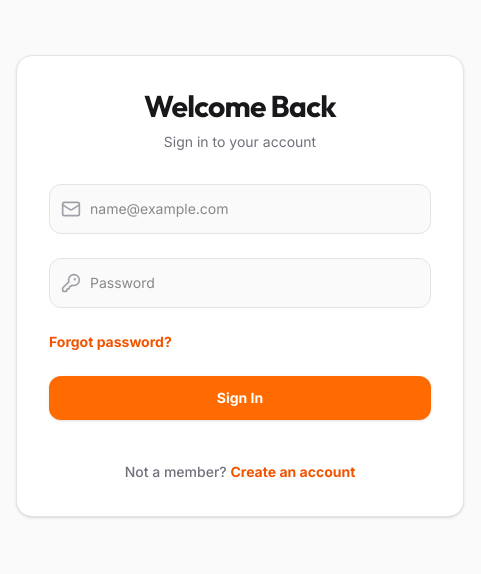
LoginView Component › displays error if login fails
Type "test@example.com" into the field with placeholder "name@example.com" at (240, 209), box [49,184,431,234]
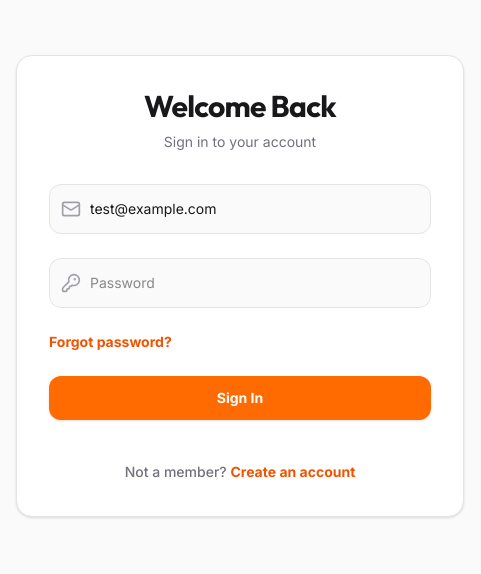
Type "password123" into the password field with placeholder "Password" at (240, 283), box [49,258,431,308]
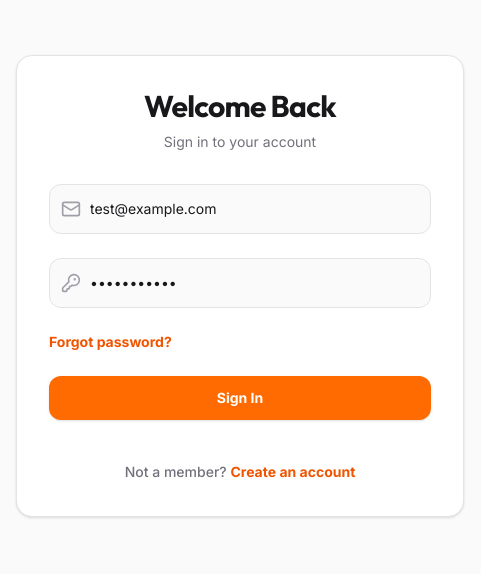
Click the button "Sign In" at (240, 398), box [49,376,431,420]
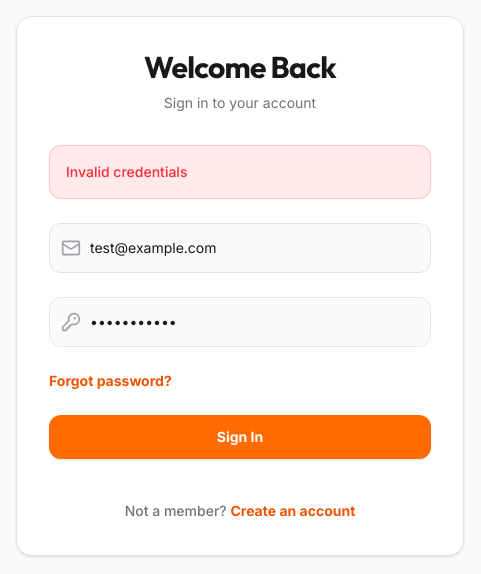
Now the text "Invalid credentials" is shown, box [49,145,431,199]
